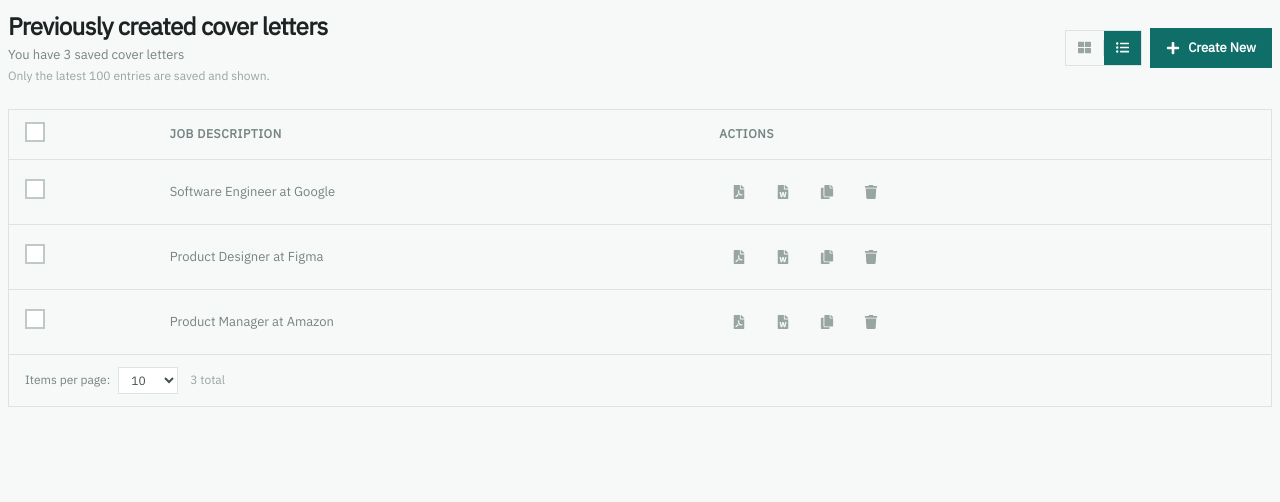
Test: PreviousCoverLettersView — integration › shows batch action bar when a row checkbox is clicked
Check: the text "Software Engineer at Google" is shown, box [170,183,335,200]
Click the checkbox next to "Software Engineer at Google": (35, 189) [25,179,45,199]
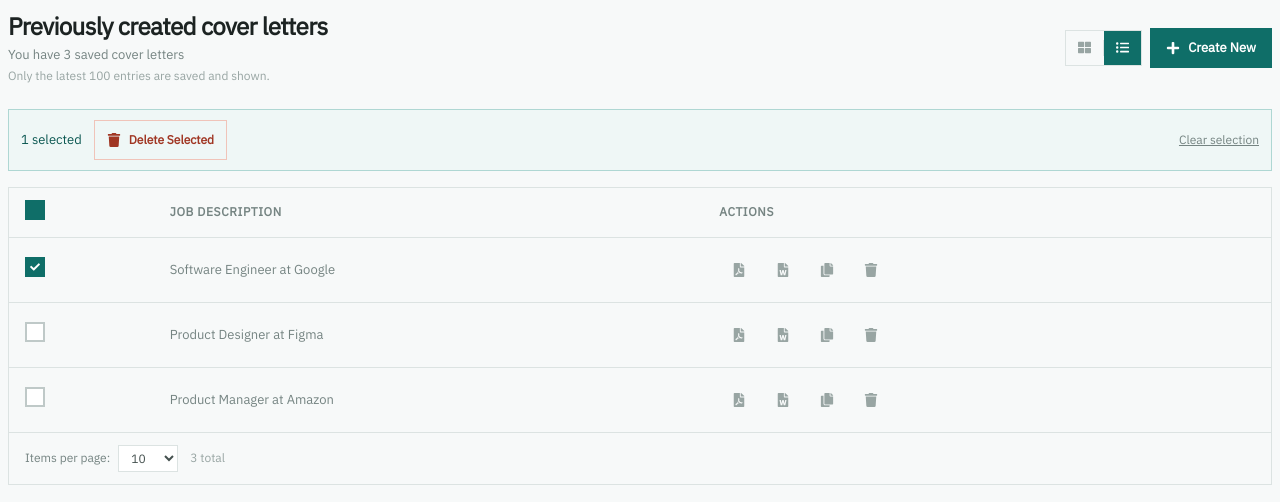
Check: the text "1 selected" is shown, box [21,130,82,149]
Check: the text "Delete Selected" is shown, box [129,130,214,148]
Check: the button "Clear selection" is shown, box [1179,130,1259,148]
